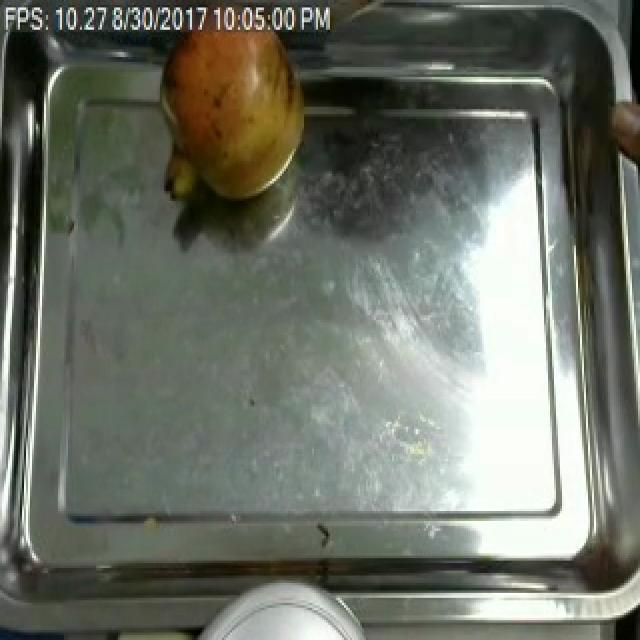fruit: (154, 8, 306, 208), (606, 79, 640, 186)
